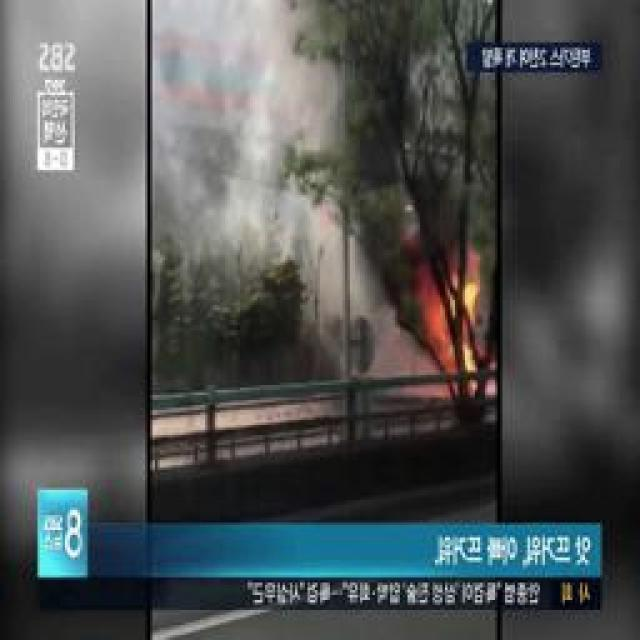Fire: (430, 264, 482, 400)
